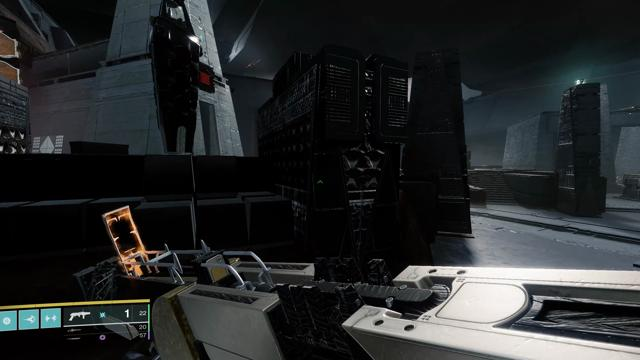stop: (199, 68, 213, 89)
